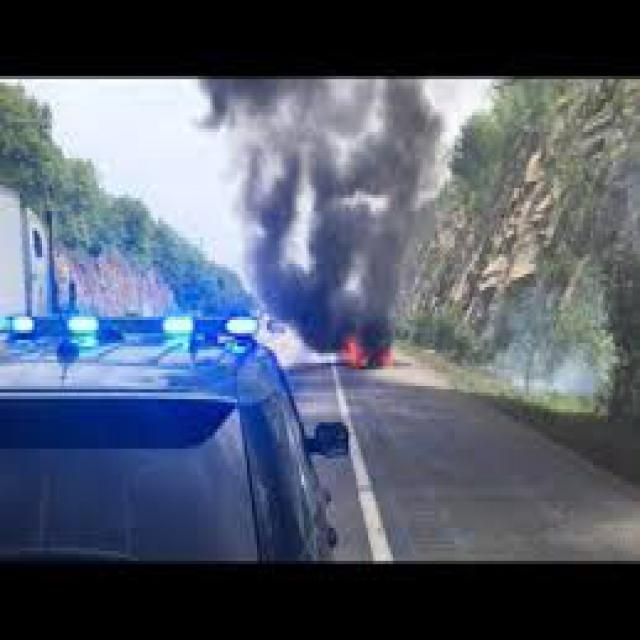smoke: (220, 73, 427, 360)
